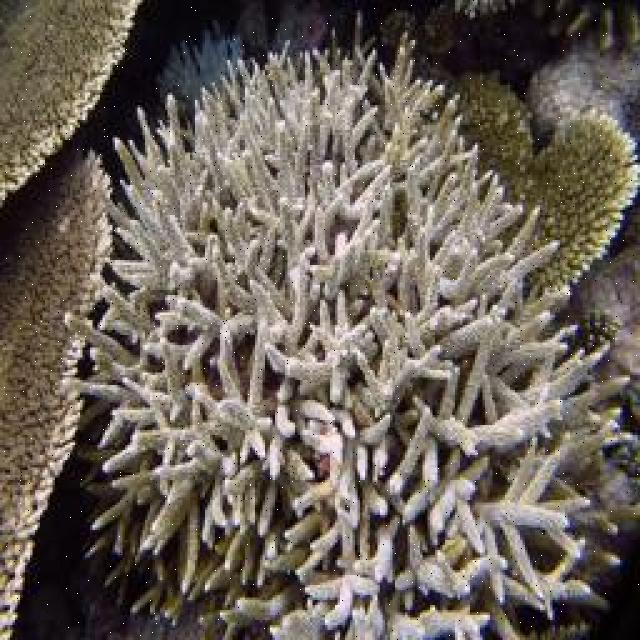reefs: (65, 12, 637, 638), (0, 150, 111, 638), (422, 65, 638, 304), (2, 1, 140, 202), (526, 54, 636, 145)
